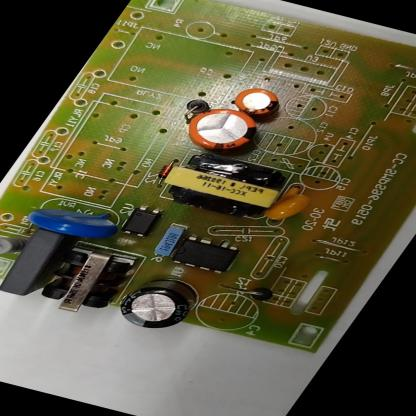Cap1: (177, 104, 266, 158)
Cap2: (228, 85, 284, 118)
Cap3: (107, 273, 204, 336)
MOSFET: (167, 233, 242, 276)
Mov: (17, 196, 121, 244)
Resistor: (0, 226, 31, 260)
Transformer: (154, 147, 296, 222), (30, 245, 138, 319)
